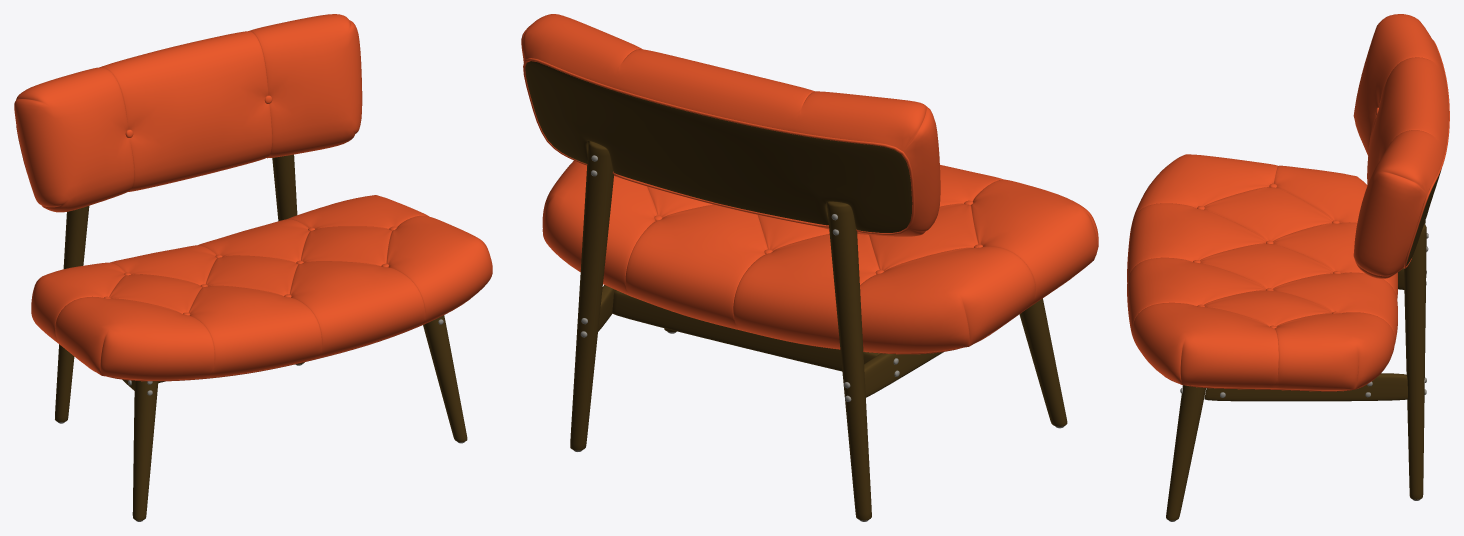
The model's file is armchair-slipper.glb.
The picture shows the model from 3 angles, left to right: view 1: azimuth 30°, elevation 25°; view 2: azimuth 150°, elevation 25°; view 3: azimuth 270°, elevation 25°; orthographic projection. The views are drawn at different scales.
Visible parts, largest first — view 1: SheenChair_fabric, SheenChair_wood; view 2: SheenChair_fabric, SheenChair_wood; view 3: SheenChair_fabric, SheenChair_wood.
Boxes of the visible parts, bbox=[...] form: SheenChair_fabric: bbox=[14, 14, 492, 381]; SheenChair_wood: bbox=[55, 154, 467, 520]; SheenChair_fabric: bbox=[521, 14, 1098, 354]; SheenChair_wood: bbox=[525, 61, 1067, 520]; SheenChair_fabric: bbox=[1127, 14, 1449, 391]; SheenChair_wood: bbox=[1166, 170, 1441, 520].
Bounding box in the file's own units: 0.827 × 0.686 × 0.57.
